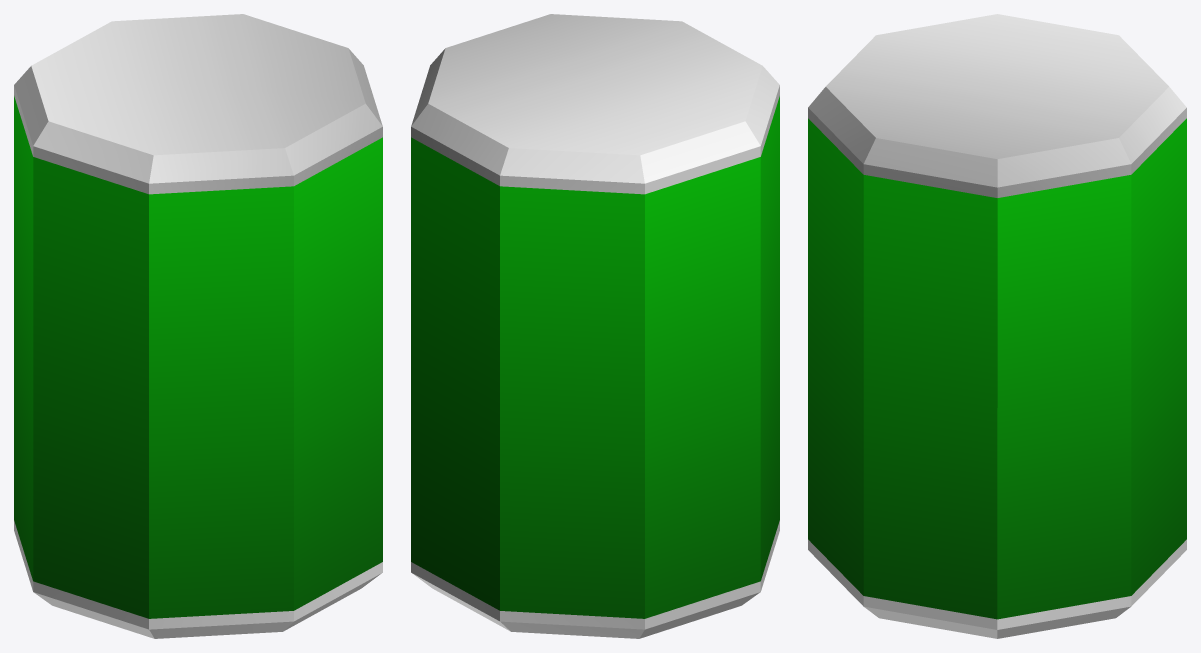
The model's file is Sampah5.fbx.
3 views of the same model, side by side, from view 1: azimuth 30°, elevation 25°; view 2: azimuth 150°, elevation 25°; view 3: azimuth 270°, elevation 25° (orthographic).
Visible parts, largest first — view 1: Botol; view 2: Botol; view 3: Botol.
Part boxes in pixels (x1=…): Botol: x1=14, y1=14, x2=382, y2=638; Botol: x1=411, y1=14, x2=779, y2=638; Botol: x1=808, y1=14, x2=1186, y2=638.
Bounding box in the file's own units: 9.33 × 13.09 × 9.33.
